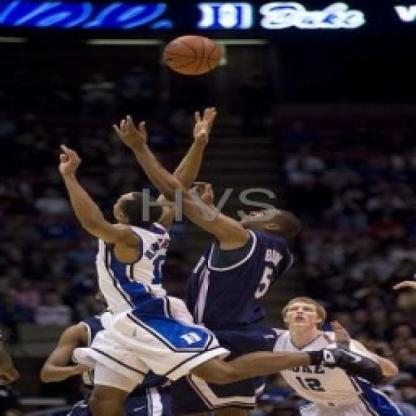basketball: (161, 30, 225, 83)
